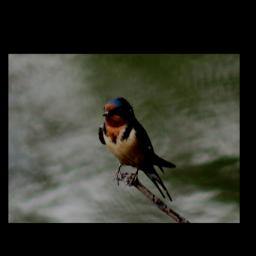Swallow: (96, 96, 173, 203)
